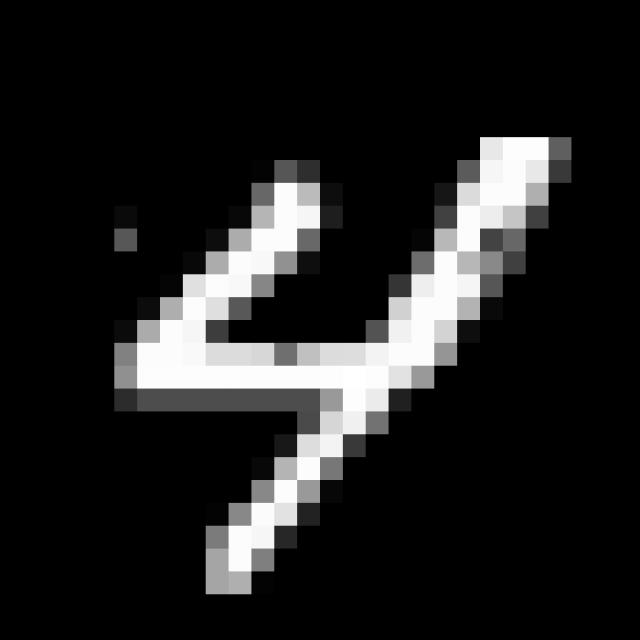four -4-: (98, 116, 586, 604)
